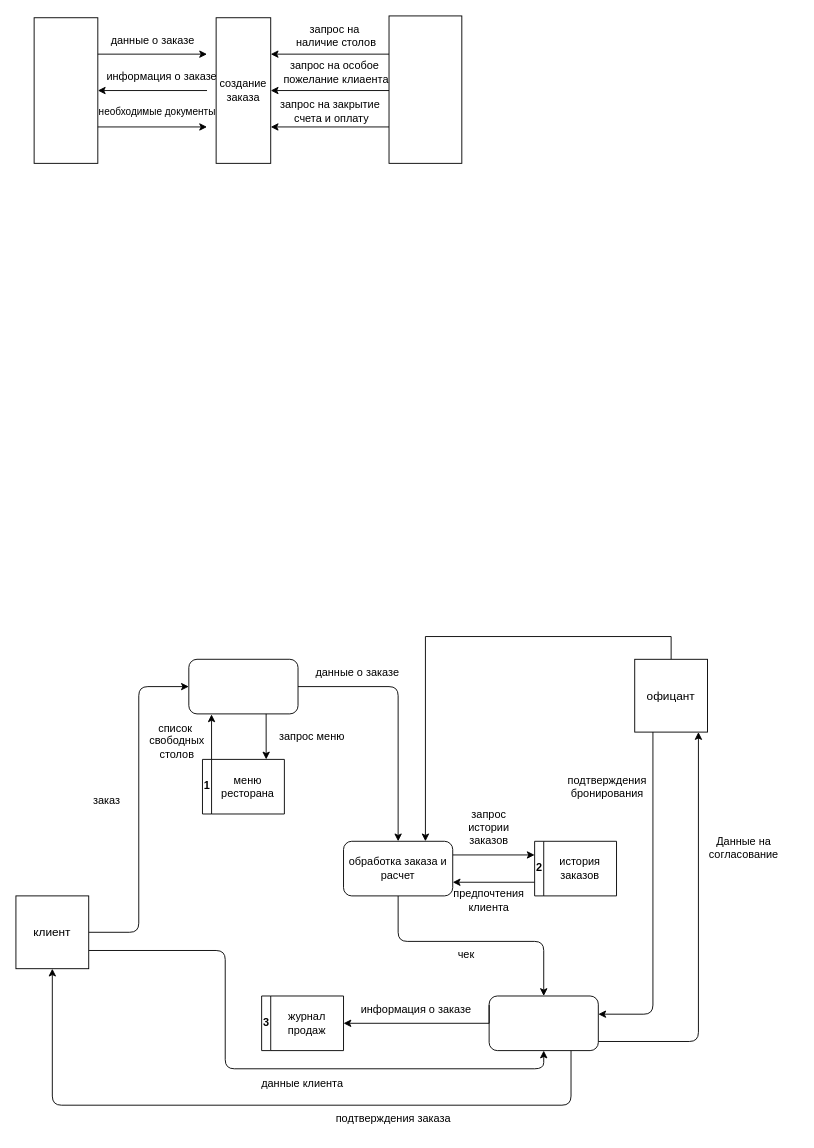
The diagram is 814 pixels wide and 1148 high, and some of its shapes have lost their labels. The centre of each missing label's shape, as x and y in pixels:
офицант./менеджер: [425,89]
оформление заказа и оплата: [543,1023]
посетитель: [65,90]
прием заказа и бронирование: [243,686]
